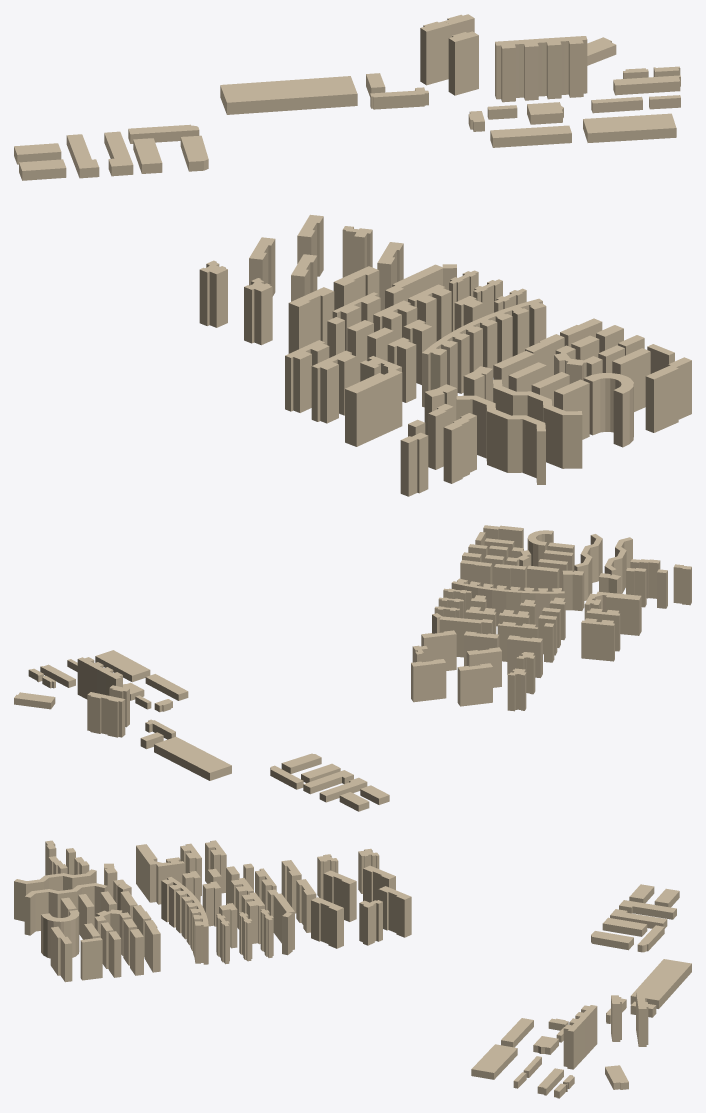
File: -17_9-estimated-coarse.glb
3 views of the same model, one above another, from view 1: azimuth 30°, elevation 25°; view 2: azimuth 150°, elevation 25°; view 3: azimuth 270°, elevation 25° (orthographic). The views are drawn at different scales.
Bounding box in the file's own units: 820 × 66 × 1067.
